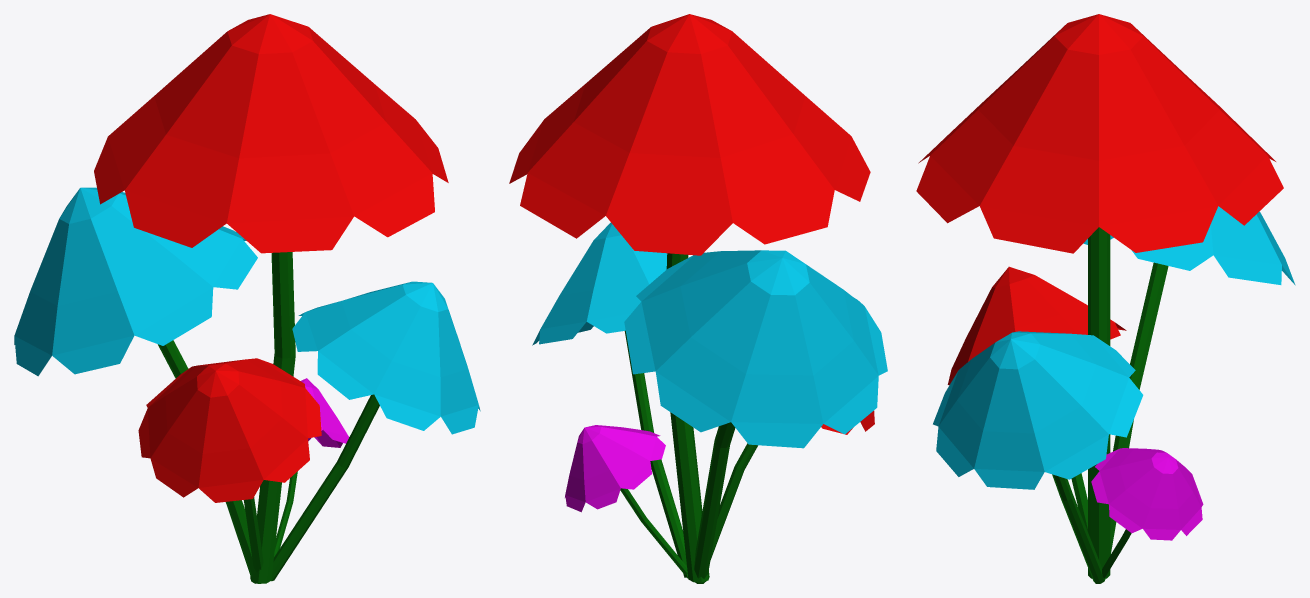
The model's file is GEO_mushroom_family_small.fbx.
3 renders of one model, left to right at view 1: azimuth 30°, elevation 25°; view 2: azimuth 150°, elevation 25°; view 3: azimuth 270°, elevation 25°, orthographic.
Visible parts, largest first — view 1: GEO_mushroom_family_small; view 2: GEO_mushroom_family_small; view 3: GEO_mushroom_family_small.
Boxes of the visible parts, bbox=[...] form: GEO_mushroom_family_small: bbox=[14, 14, 480, 583]; GEO_mushroom_family_small: bbox=[509, 14, 887, 583]; GEO_mushroom_family_small: bbox=[916, 14, 1295, 583].
Bounding box in the file's own units: 32.04 × 45.6 × 27.56.
